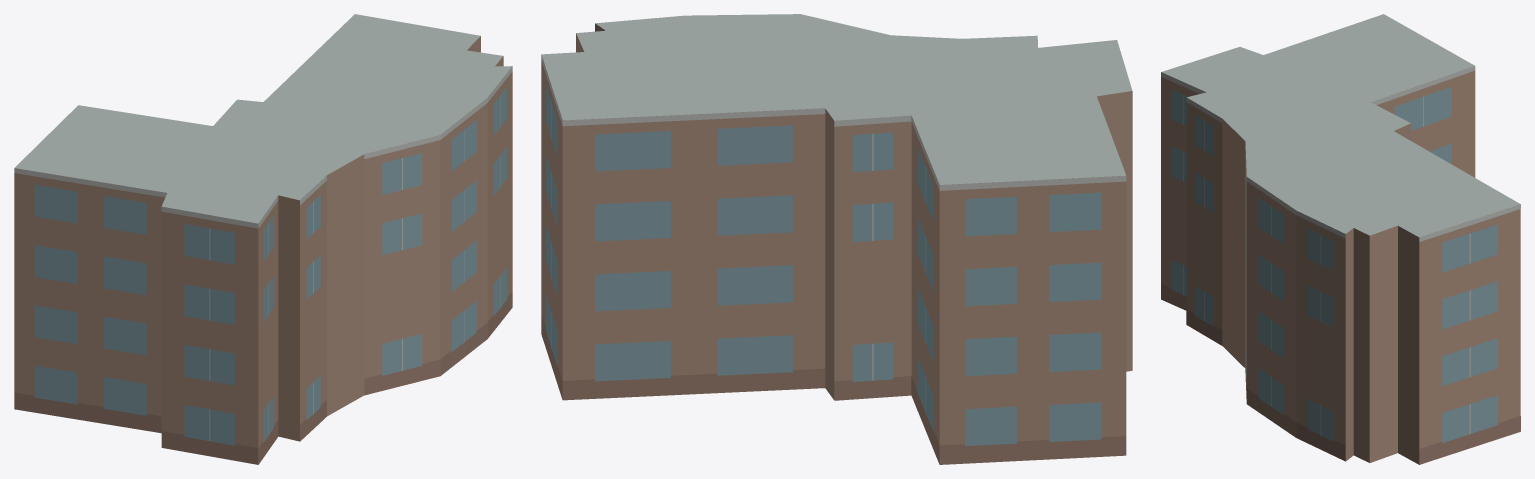
File: survey-upis-32494589.glb
The picture shows the model from 3 angles, left to right: view 1: azimuth 30°, elevation 25°; view 2: azimuth 150°, elevation 25°; view 3: azimuth 270°, elevation 25°; orthographic projection. The views are drawn at different scales.
Visible parts, largest first — view 1: survey-upis-32494589.tmp; view 2: survey-upis-32494589.tmp; view 3: survey-upis-32494589.tmp.
Boxes of the visible parts, x1=… form: survey-upis-32494589.tmp: x1=14, y1=14, x2=512, y2=464; survey-upis-32494589.tmp: x1=541, y1=14, x2=1132, y2=464; survey-upis-32494589.tmp: x1=1161, y1=14, x2=1520, y2=464.
Size of the model in its own units: 24.74 by 11.74 by 16.83.
